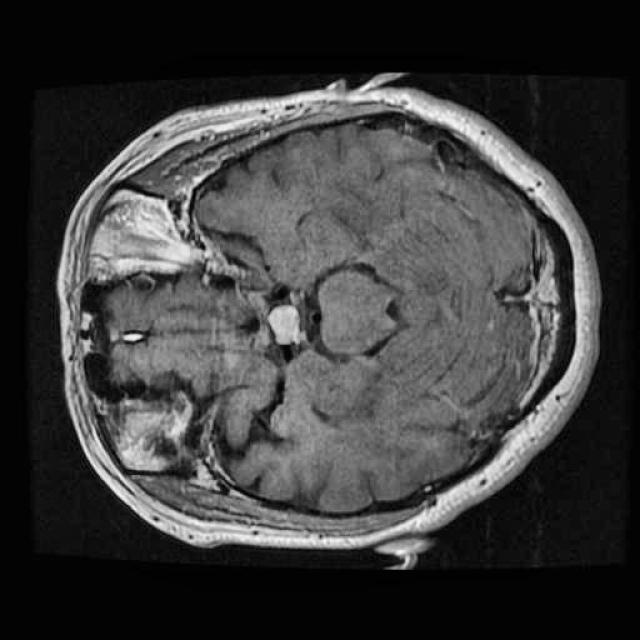Tumor: (249, 289, 328, 368)
